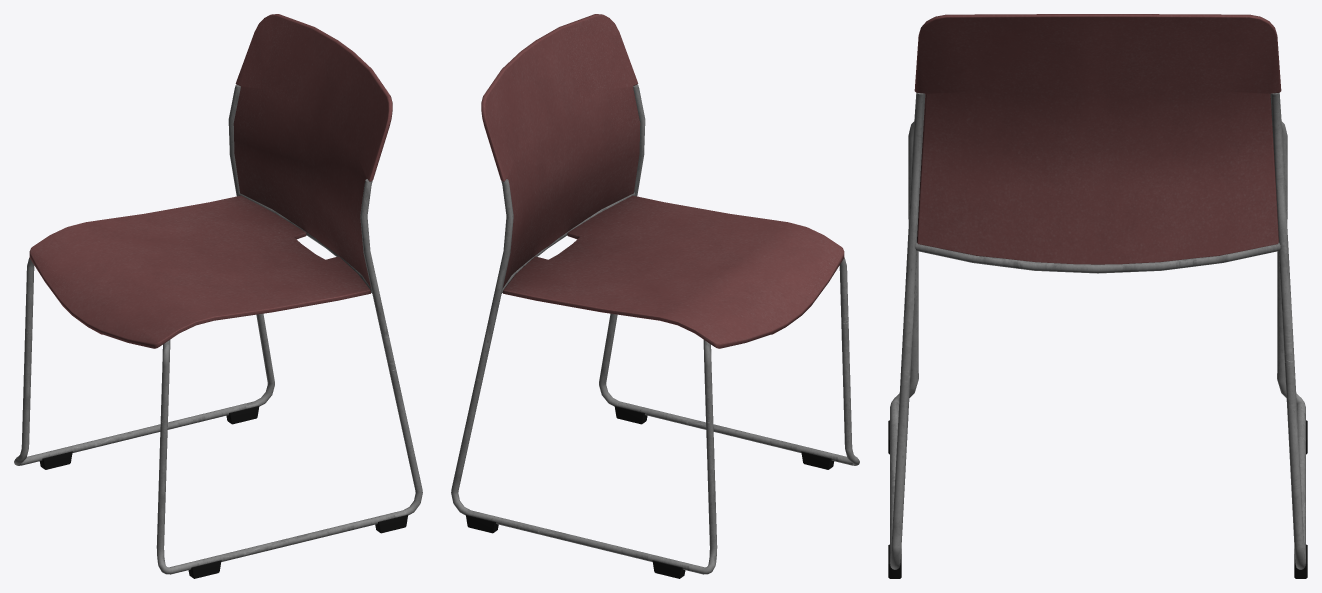
Rendered from SM_Chair_02.fbx.
The picture shows the model from 3 angles, left to right: view 1: azimuth 30°, elevation 25°; view 2: azimuth 150°, elevation 25°; view 3: azimuth 270°, elevation 25°; orthographic projection. The views are drawn at different scales.
Parts seen in each view (by area): view 1: SM_Chair_02_LOD0; view 2: SM_Chair_02_LOD0; view 3: SM_Chair_02_LOD0.
Boxes of the visible parts, box(x1,y1,x2,y2) form: SM_Chair_02_LOD0: box(14, 14, 422, 578); SM_Chair_02_LOD0: box(451, 14, 859, 578); SM_Chair_02_LOD0: box(888, 14, 1307, 578).
Bounding box in the file's own units: 50.74 × 50.2 × 75.96.
Materials: 1 (1 with a texture image).
